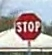stop: (13, 11, 41, 41)
